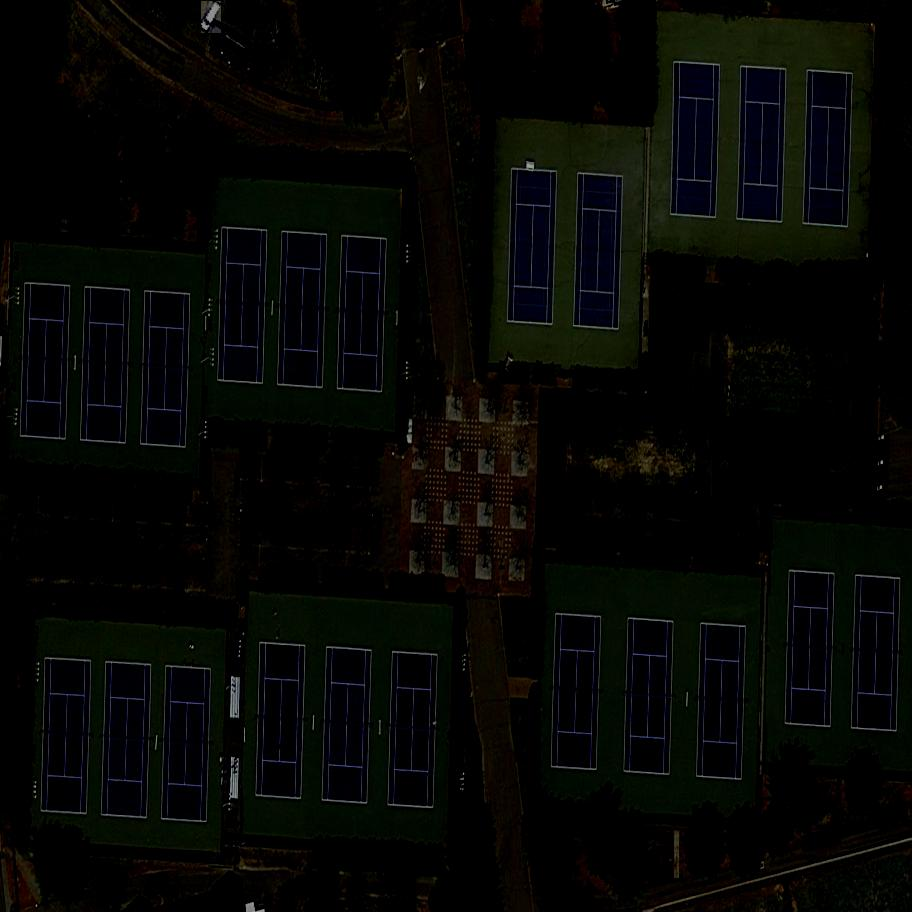small-vehicle: (199, 1, 223, 33)
